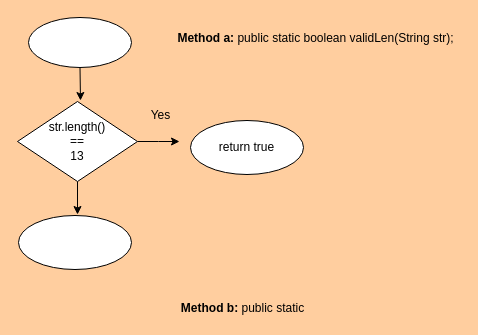
Some shapes in this 478 by 335 pixel diagram are drawn without their labels. Here are the shapes that lost their labels. From the top down, the box of each, then its label:
(28, 16, 132, 68): Start: validLen(str)
(18, 214, 132, 270): return false
